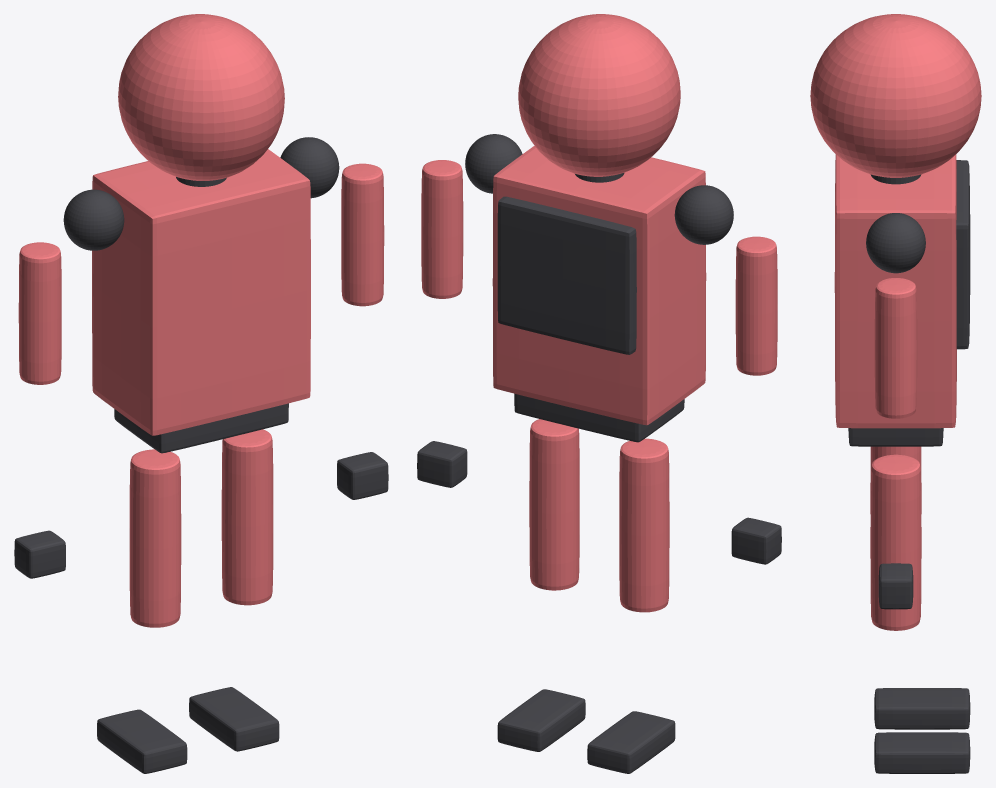
File: Dummy_Mannequin_Red_Hi.fbx
3 views of the same model, side by side, from view 1: azimuth 30°, elevation 25°; view 2: azimuth 150°, elevation 25°; view 3: azimuth 270°, elevation 25° (orthographic). The views are drawn at different scales.
Visible parts, largest first — view 1: Torso, Head, UpperLeg_L, UpperLeg_R, UpperArm_R, UpperArm_L, Foot_R, Foot_L, Pelvis, Shoulder_L, Shoulder_R, Hand_R (+1 smaller); view 2: Torso, Head, ChestPlate, UpperLeg_L, UpperLeg_R, UpperArm_L, UpperArm_R, Foot_L, Foot_R, Pelvis, Shoulder_L, Shoulder_R (+2 smaller); view 3: Torso, Head, UpperLeg_R, UpperArm_R, Foot_R, Foot_L, Shoulder_R, ChestPlate, Pelvis, Hand_R, UpperLeg_L.
Part boxes in pixels (x1=…): Torso: x1=92, y1=149, x2=310, y2=435; Head: x1=118, y1=14, x2=284, y2=180; UpperLeg_L: x1=129, y1=449, x2=181, y2=627; UpperLeg_R: x1=221, y1=429, x2=273, y2=605; UpperArm_R: x1=341, y1=163, x2=384, y2=306; UpperArm_L: x1=18, y1=242, x2=61, y2=384; Foot_R: x1=189, y1=687, x2=279, y2=751; Foot_L: x1=97, y1=709, x2=187, y2=773; Pelvis: x1=114, y1=403, x2=288, y2=453; Shoulder_L: x1=63, y1=189, x2=124, y2=250; Shoulder_R: x1=280, y1=137, x2=339, y2=198; Hand_R: x1=337, y1=452, x2=388, y2=499; Torso: x1=492, y1=146, x2=706, y2=425; Head: x1=518, y1=14, x2=680, y2=176; ChestPlate: x1=497, y1=196, x2=636, y2=354; UpperLeg_L: x1=619, y1=438, x2=669, y2=612; UpperLeg_R: x1=529, y1=419, x2=579, y2=590; UpperArm_L: x1=735, y1=236, x2=777, y2=375; UpperArm_R: x1=421, y1=160, x2=463, y2=298; Foot_L: x1=587, y1=711, x2=675, y2=773; Foot_R: x1=497, y1=689, x2=585, y2=751; Pelvis: x1=514, y1=393, x2=684, y2=442; Shoulder_L: x1=674, y1=185, x2=733, y2=244; Shoulder_R: x1=465, y1=134, x2=522, y2=193; Torso: x1=834, y1=154, x2=956, y2=428; Head: x1=810, y1=14, x2=981, y2=177; UpperLeg_R: x1=870, y1=454, x2=921, y2=630; UpperArm_R: x1=874, y1=278, x2=917, y2=418; Foot_R: x1=874, y1=732, x2=970, y2=773; Foot_L: x1=874, y1=688, x2=970, y2=729; Shoulder_R: x1=866, y1=213, x2=925, y2=273; ChestPlate: x1=956, y1=160, x2=970, y2=349; Pelvis: x1=848, y1=428, x2=943, y2=446; Hand_R: x1=878, y1=563, x2=913, y2=609; UpperLeg_L: x1=870, y1=446, x2=921, y2=513.
Size of the model in its own units: 0.9395 by 1.82 by 0.391.
